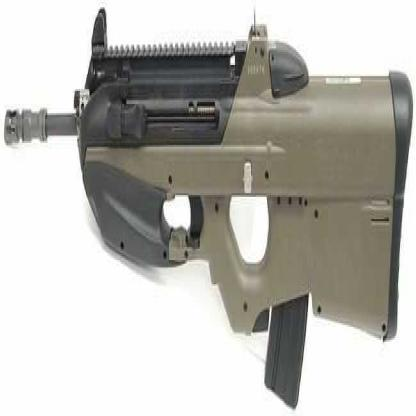rifle: (3, 9, 414, 414)
